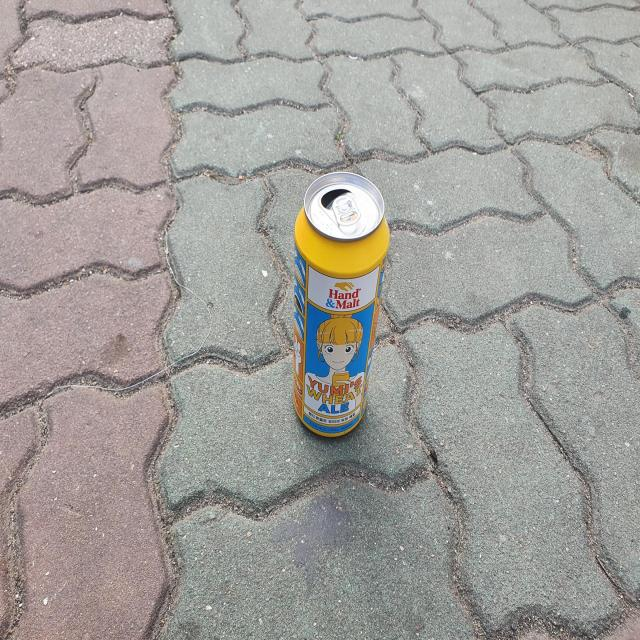can: (293, 171, 390, 436)
